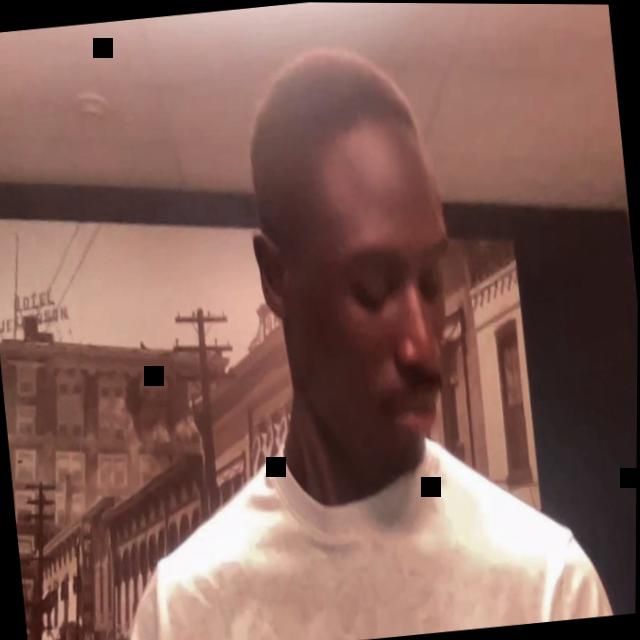NO-Mask: (241, 112, 473, 486)
